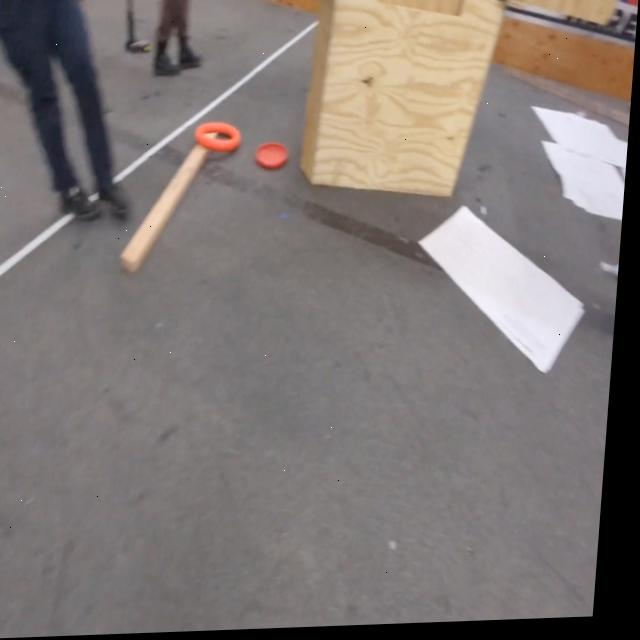note: (196, 121, 244, 155)
